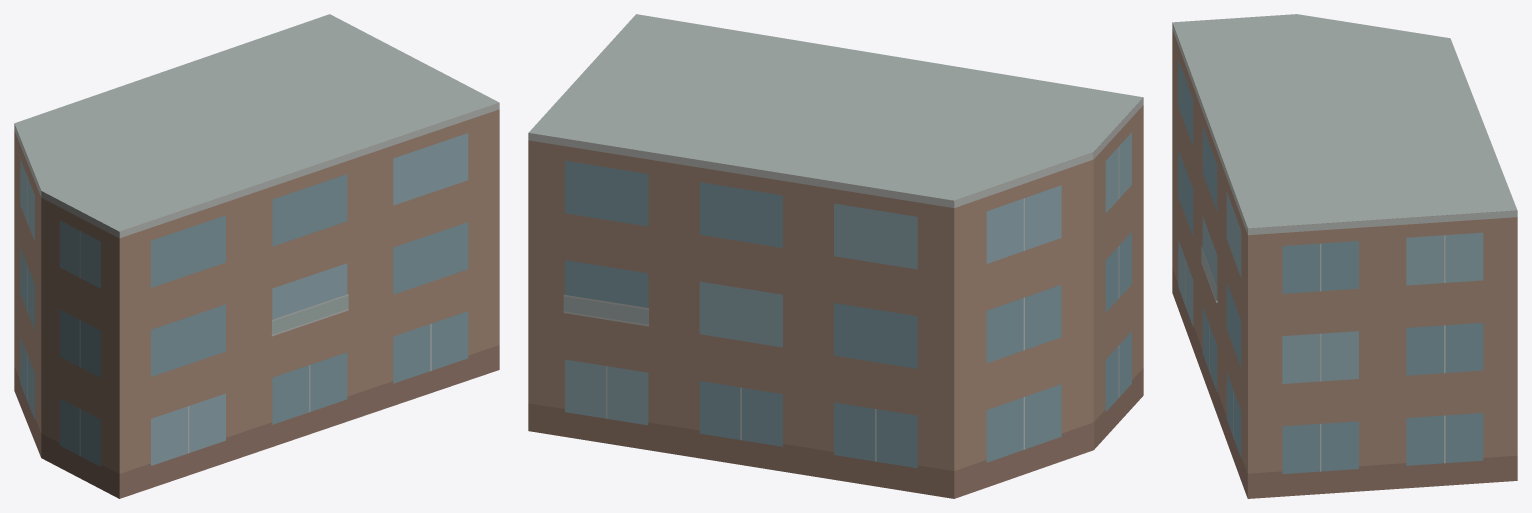
File: survey-upis-32741701.glb
3 views of the same model, side by side, from view 1: azimuth 30°, elevation 25°; view 2: azimuth 150°, elevation 25°; view 3: azimuth 270°, elevation 25° (orthographic). The views are drawn at different scales.
Visible parts, largest first — view 1: survey-upis-32741701.tmp; view 2: survey-upis-32741701.tmp; view 3: survey-upis-32741701.tmp.
Part boxes in pixels (bbox=[...]): survey-upis-32741701.tmp: bbox=[14, 14, 499, 498]; survey-upis-32741701.tmp: bbox=[528, 14, 1143, 498]; survey-upis-32741701.tmp: bbox=[1172, 14, 1517, 498].
Size of the model in its own units: 16.5 by 9.7 by 11.23.
